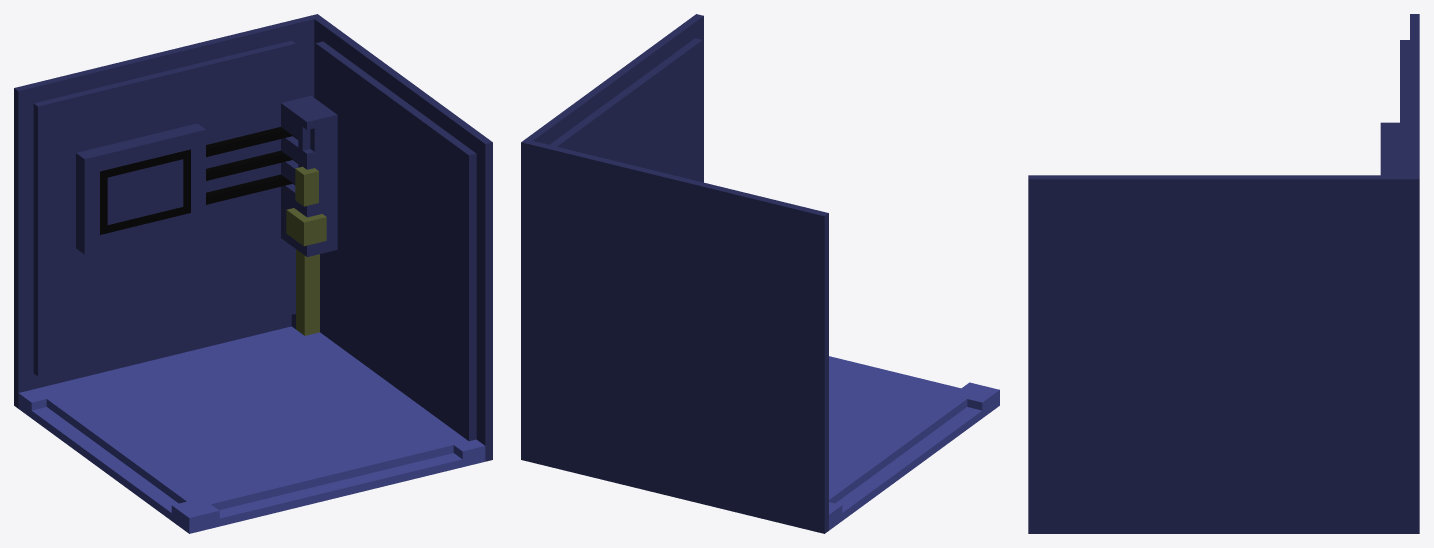
Rendered from LevelAssets-6.obj.
3 views of the same model, side by side, from view 1: azimuth 30°, elevation 25°; view 2: azimuth 150°, elevation 25°; view 3: azimuth 270°, elevation 25° (orthographic). The views are drawn at different scales.
Bounding box in the file's own units: 4 × 4 × 4.
Materials: 1 (1 with a texture image).
